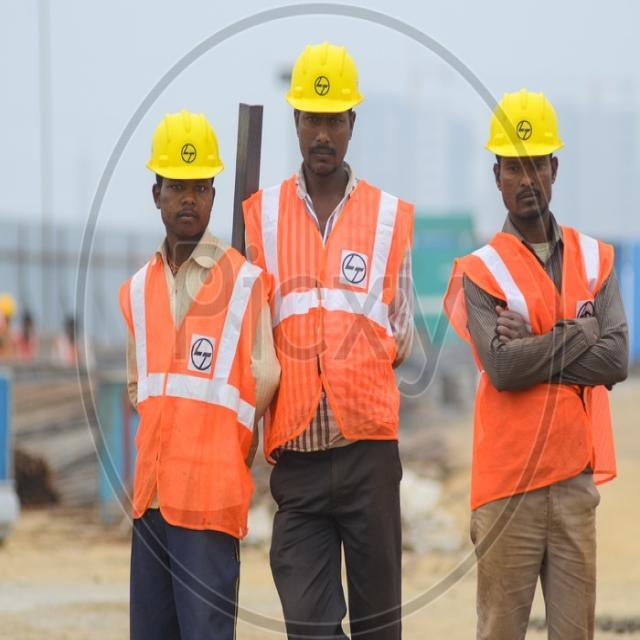helmet: (286, 40, 371, 126), (142, 114, 227, 190), (496, 90, 566, 166)
jacket: (263, 176, 426, 451), (467, 232, 632, 502), (128, 249, 268, 537)
